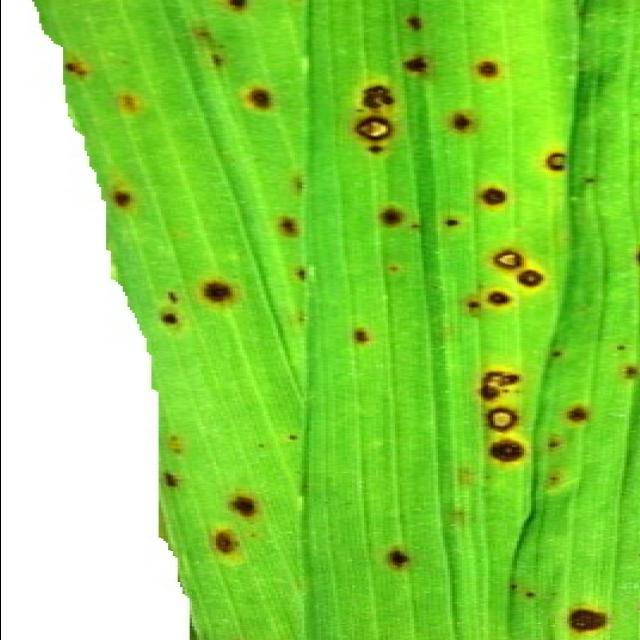Unhealthy: (463, 364, 532, 474), (458, 245, 553, 317), (154, 275, 243, 334), (343, 76, 402, 158), (561, 602, 613, 639), (189, 26, 229, 73), (106, 172, 143, 218), (468, 178, 515, 214), (206, 523, 246, 565), (219, 489, 268, 523), (372, 201, 421, 231), (237, 77, 275, 114), (534, 139, 569, 179), (393, 49, 435, 78), (444, 108, 484, 136), (377, 543, 413, 574), (271, 212, 306, 241), (558, 402, 594, 430), (470, 57, 504, 83), (113, 92, 144, 118), (63, 55, 90, 83), (284, 165, 305, 199), (162, 432, 188, 457), (437, 212, 469, 232), (541, 467, 565, 492), (349, 326, 376, 348), (216, 0, 250, 16), (538, 433, 563, 454), (453, 463, 473, 489), (402, 11, 424, 34), (288, 264, 310, 285), (617, 364, 640, 384), (446, 508, 469, 527), (162, 469, 180, 490), (517, 588, 542, 601), (381, 263, 403, 274), (284, 433, 301, 441), (548, 350, 564, 358), (506, 582, 521, 590), (613, 343, 627, 351), (256, 443, 266, 447)
